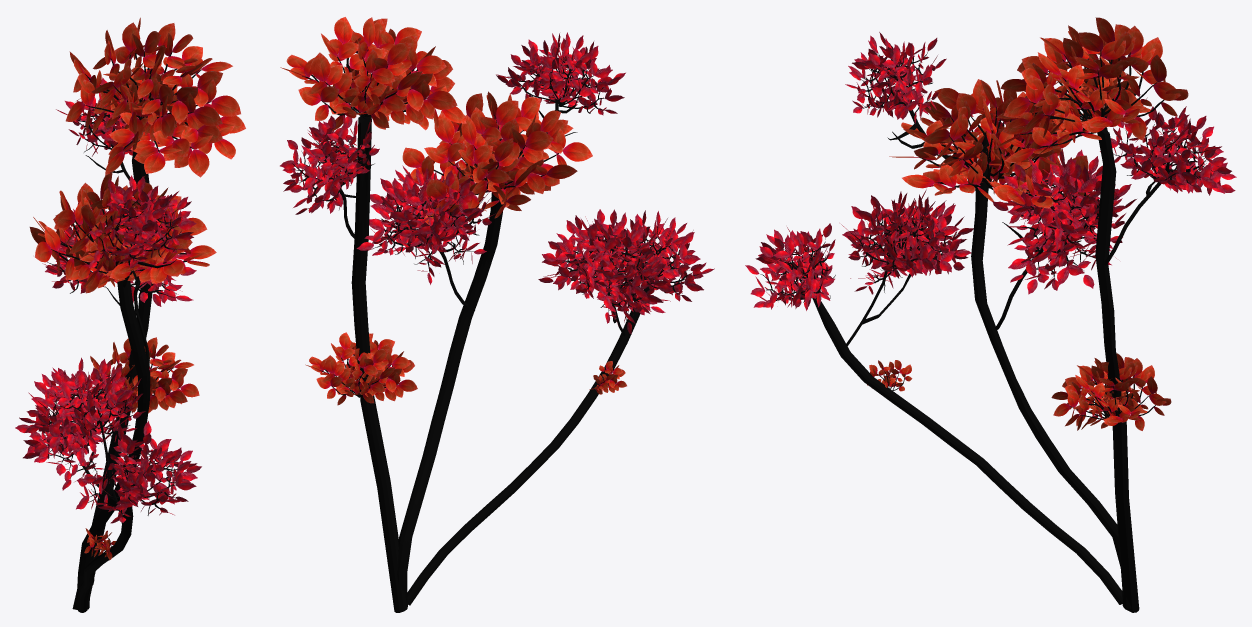
File: redtree9.fbx
3 views of the same model, side by side, from view 1: azimuth 30°, elevation 25°; view 2: azimuth 150°, elevation 25°; view 3: azimuth 270°, elevation 25° (orthographic). The views are drawn at different scales.
Visible parts, largest first — view 1: pCylinder1073; view 2: pCylinder1073; view 3: pCylinder1073.
Part boxes in pixels (box(x1,y1,x2,y2)): pCylinder1073: box(15, 17, 245, 612); pCylinder1073: box(280, 17, 714, 612); pCylinder1073: box(745, 17, 1236, 612).
Bounding box in the file's own units: 30.99 × 57.63 × 42.33.
